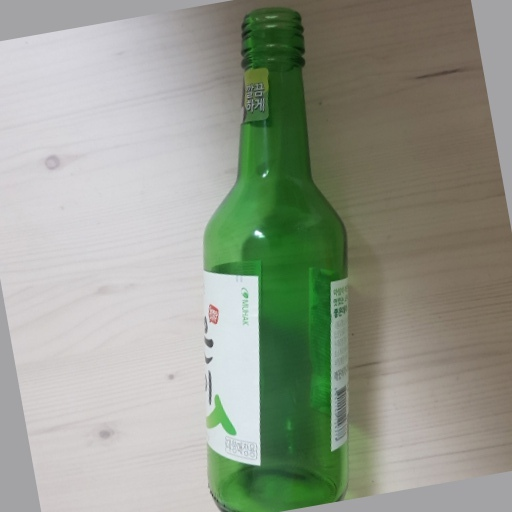Glass_0: (197, 5, 357, 511)
